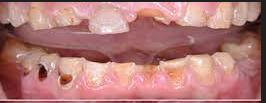Caries: (37, 61, 53, 79), (57, 74, 76, 89), (16, 64, 34, 79)
